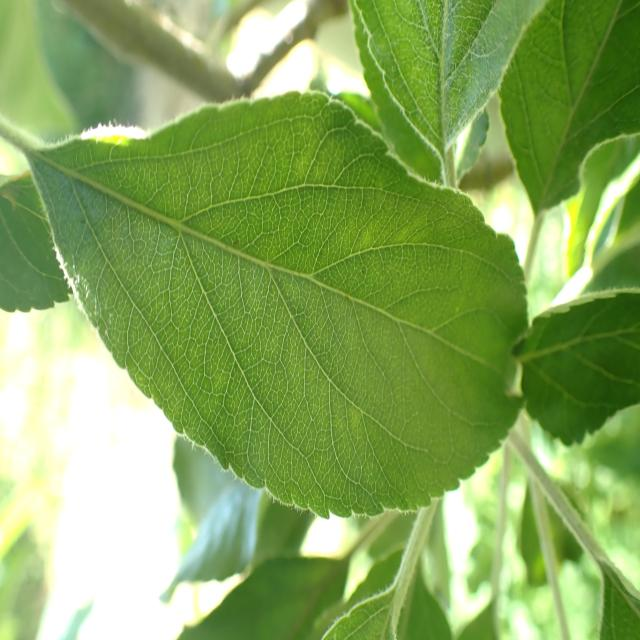healthy: (28, 89, 532, 520), (350, 0, 539, 187), (498, 0, 640, 216), (513, 285, 640, 448), (1, 169, 72, 313)
